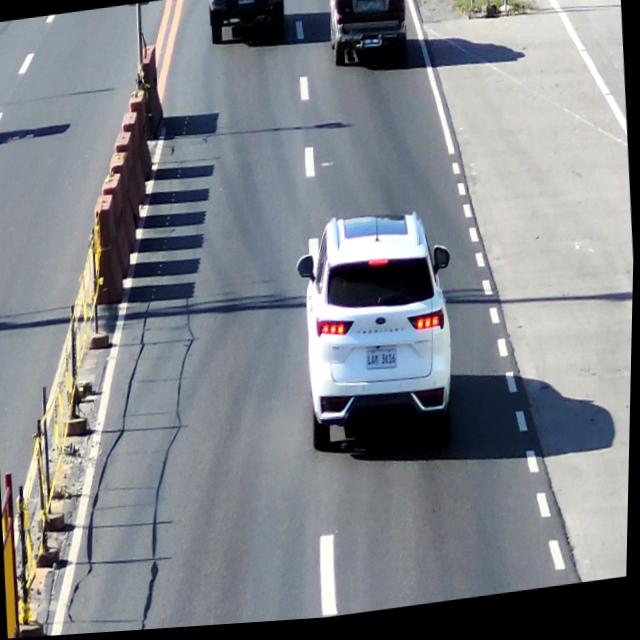Car: (291, 200, 471, 467), (323, 0, 416, 77), (202, 0, 289, 56)
License-Plate: (363, 346, 402, 381), (359, 0, 384, 20), (236, 0, 255, 10)
